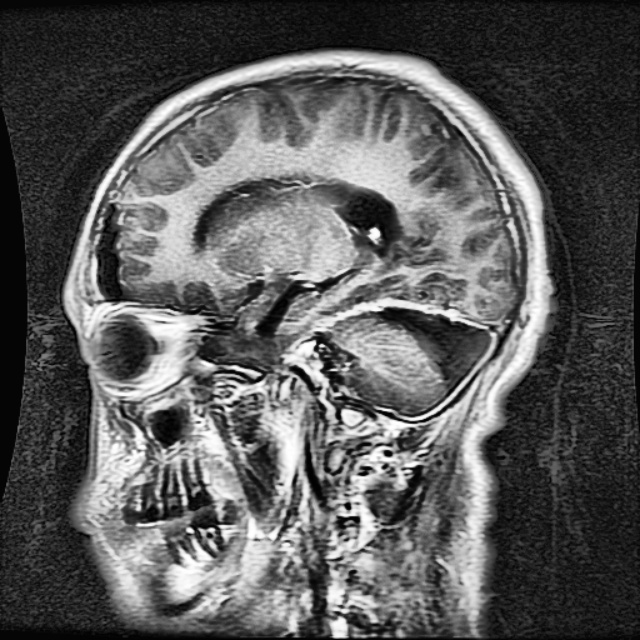Meningioma: (378, 309, 495, 394)
